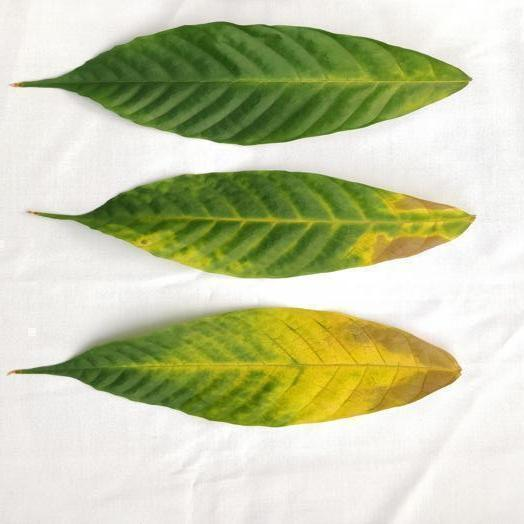Healthy Leaf: (16, 22, 469, 145)
Potassium: (14, 308, 460, 426), (34, 170, 474, 277)
